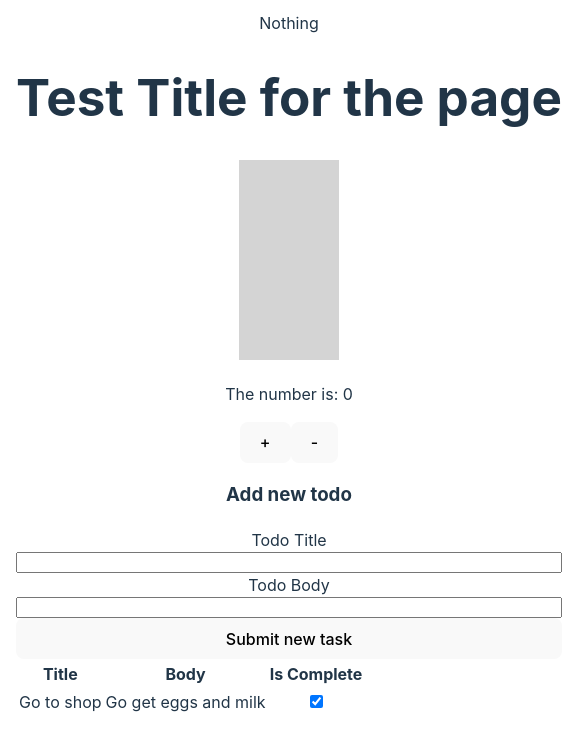
App › Click minus button -> decrements counter
What coordinates should you click on to do the following:
click the button "-"
I would click on:
 (314, 442)
Its box is [291,422,338,463].
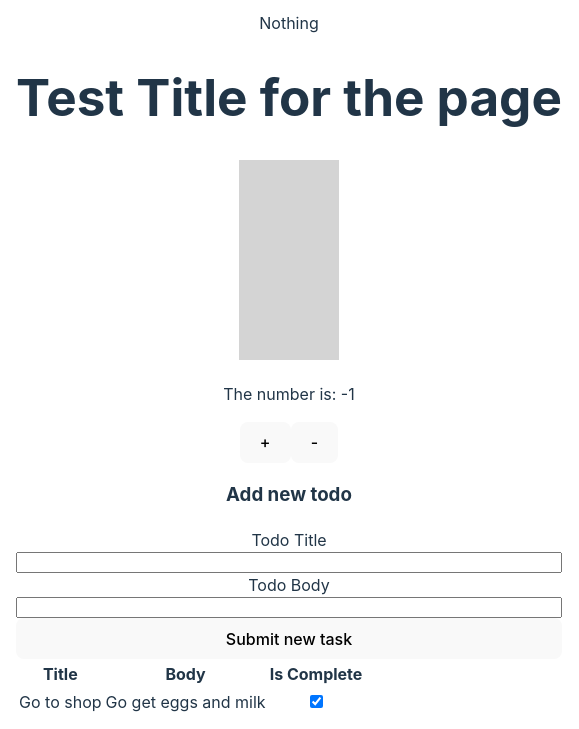
Check: the text "The number is: -1" is shown, box [223,384,355,404]
